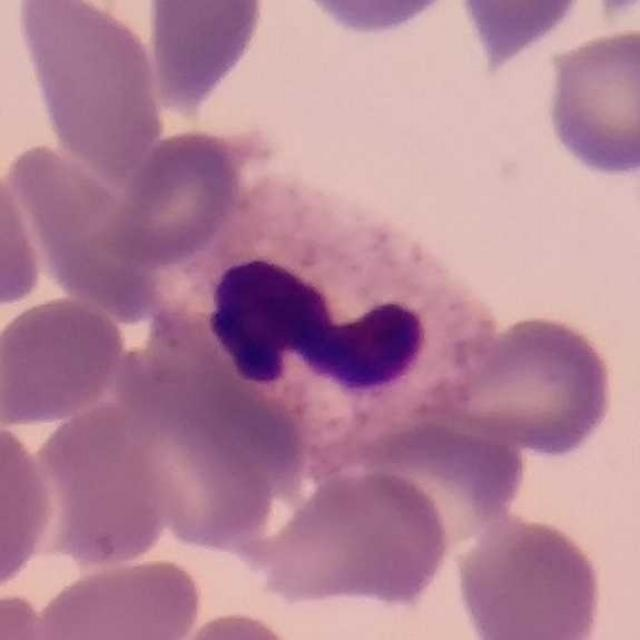Neutrophil: (177, 180, 518, 452)
RBC: (72, 373, 296, 555), (242, 463, 455, 614), (433, 310, 620, 460), (15, 0, 168, 177), (28, 396, 177, 574), (100, 125, 248, 269), (451, 514, 609, 640), (0, 293, 129, 426), (28, 551, 206, 640), (142, 0, 272, 118), (540, 26, 640, 179), (0, 414, 58, 599), (454, 0, 592, 68), (0, 155, 45, 318), (288, 0, 466, 39), (150, 606, 312, 640), (0, 585, 61, 640)
